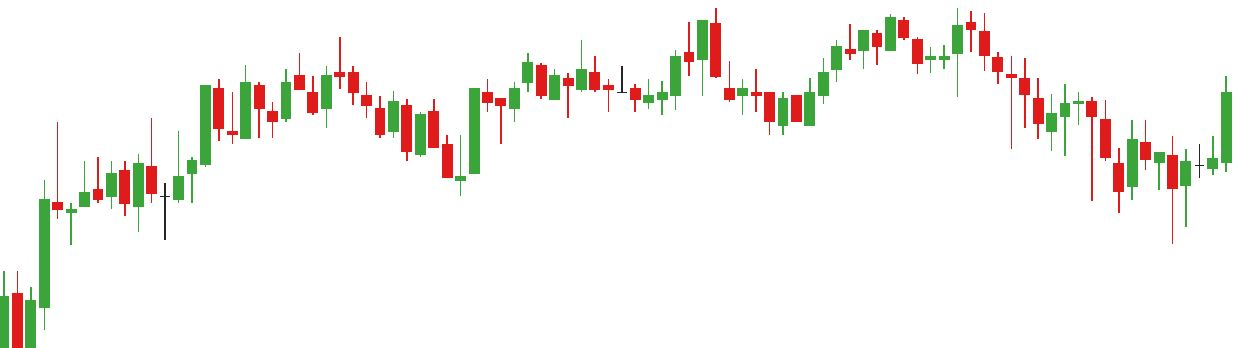sell: (882, 4, 976, 66)
